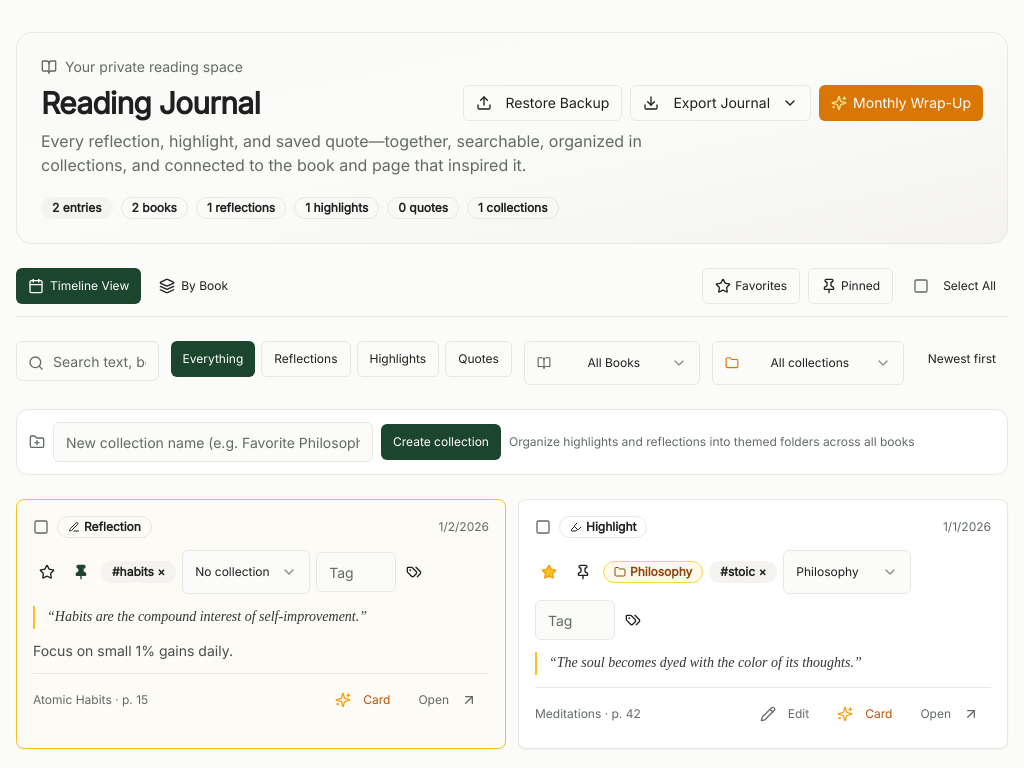
Test: ReadingJournalPage › filters entries when toggling Favorites only and Pinned only
The image size is (1024, 768).
Click the button "Favorites".
click(751, 286)  # box [702,268,800,304]
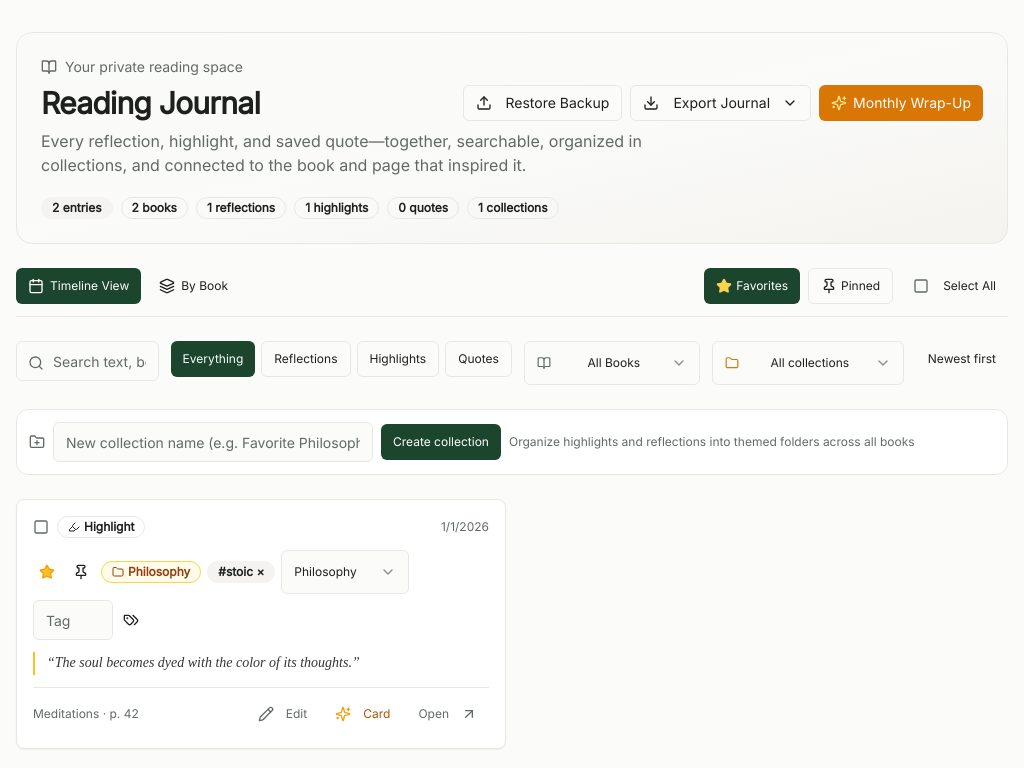
Expected: the text "“The soul becomes dyed with the color of its thoughts.”" is shown, [33,652,489,675]
Result: the text "Habits are the compound interest" is gone
Click the button "Favorites".
click(752, 286)  # box [704,268,800,304]
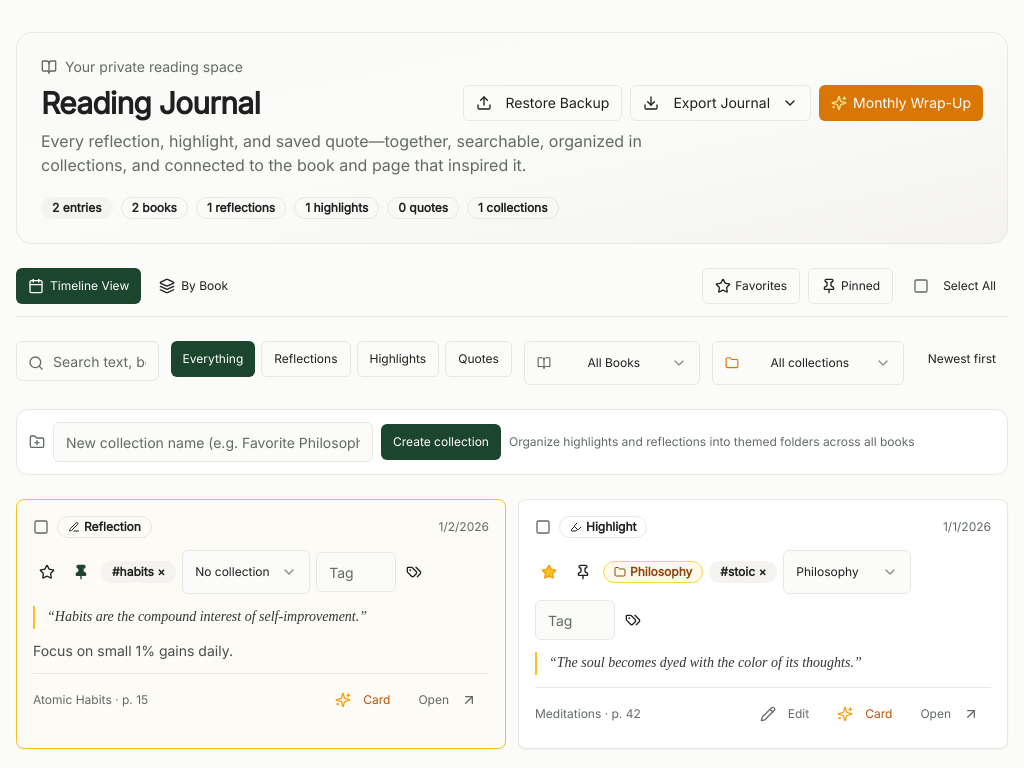
Click the button "Pinned".
click(851, 286)  # box [808,268,893,304]
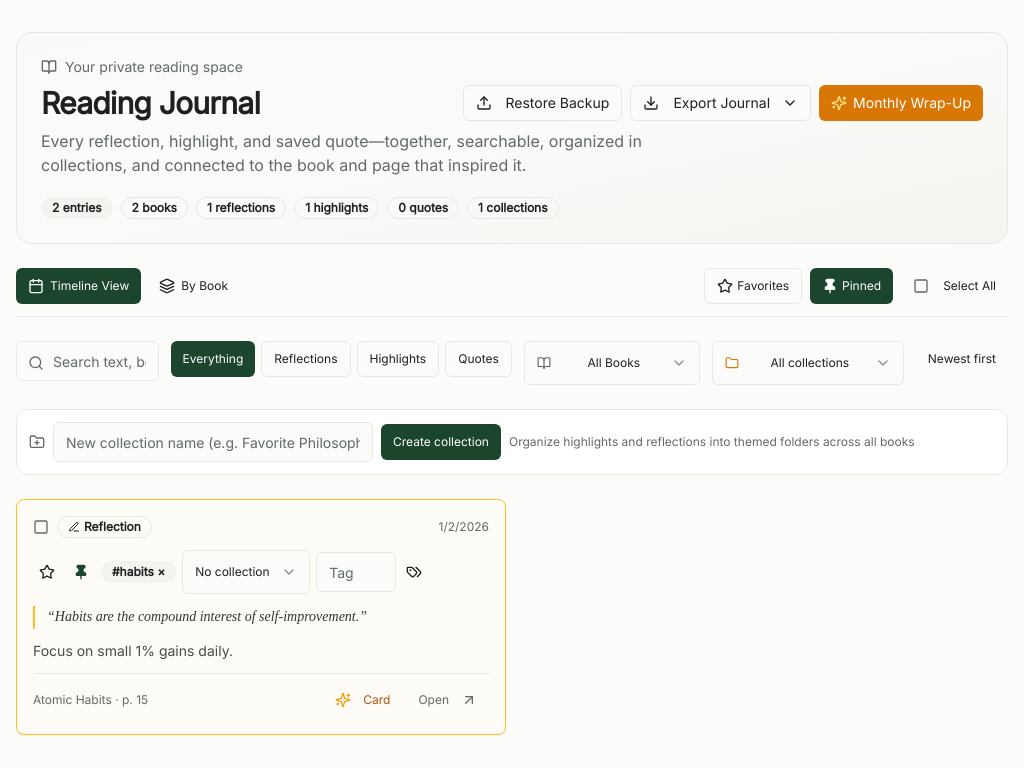
Result: the text "“Habits are the compound interest of self-improvement.”" is shown at [33,606,489,629]
Result: the text "The soul becomes dyed with the color of its thoughts" is gone
